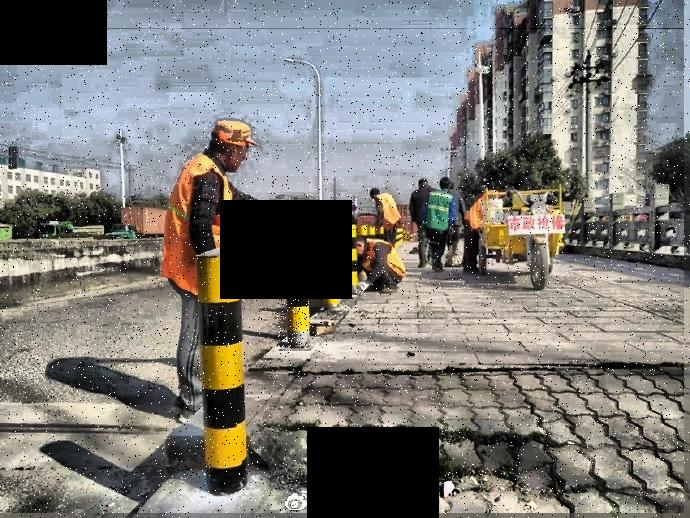bench: (187, 247, 247, 481), (277, 210, 311, 348)
